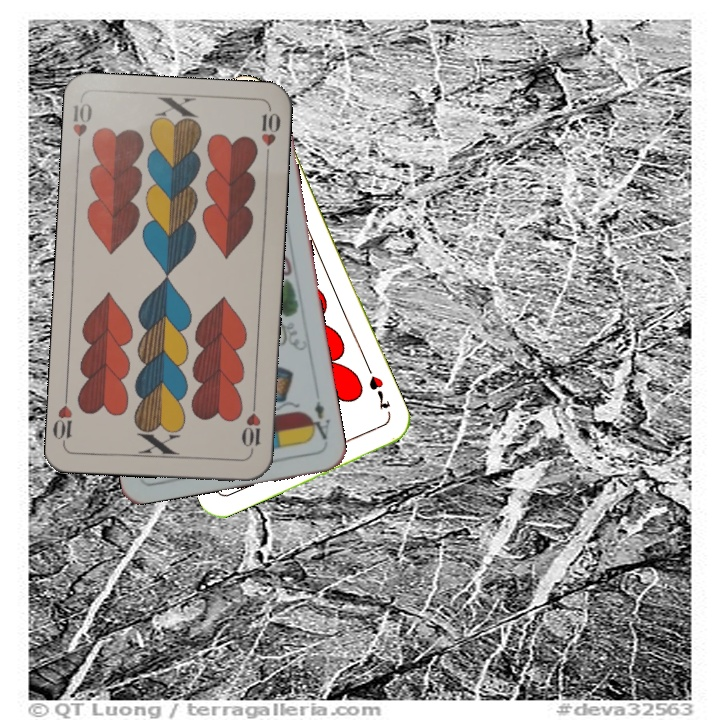EA: (304, 397, 333, 442)
H10: (238, 397, 264, 456), (69, 99, 95, 156)
H7: (365, 371, 393, 412)
